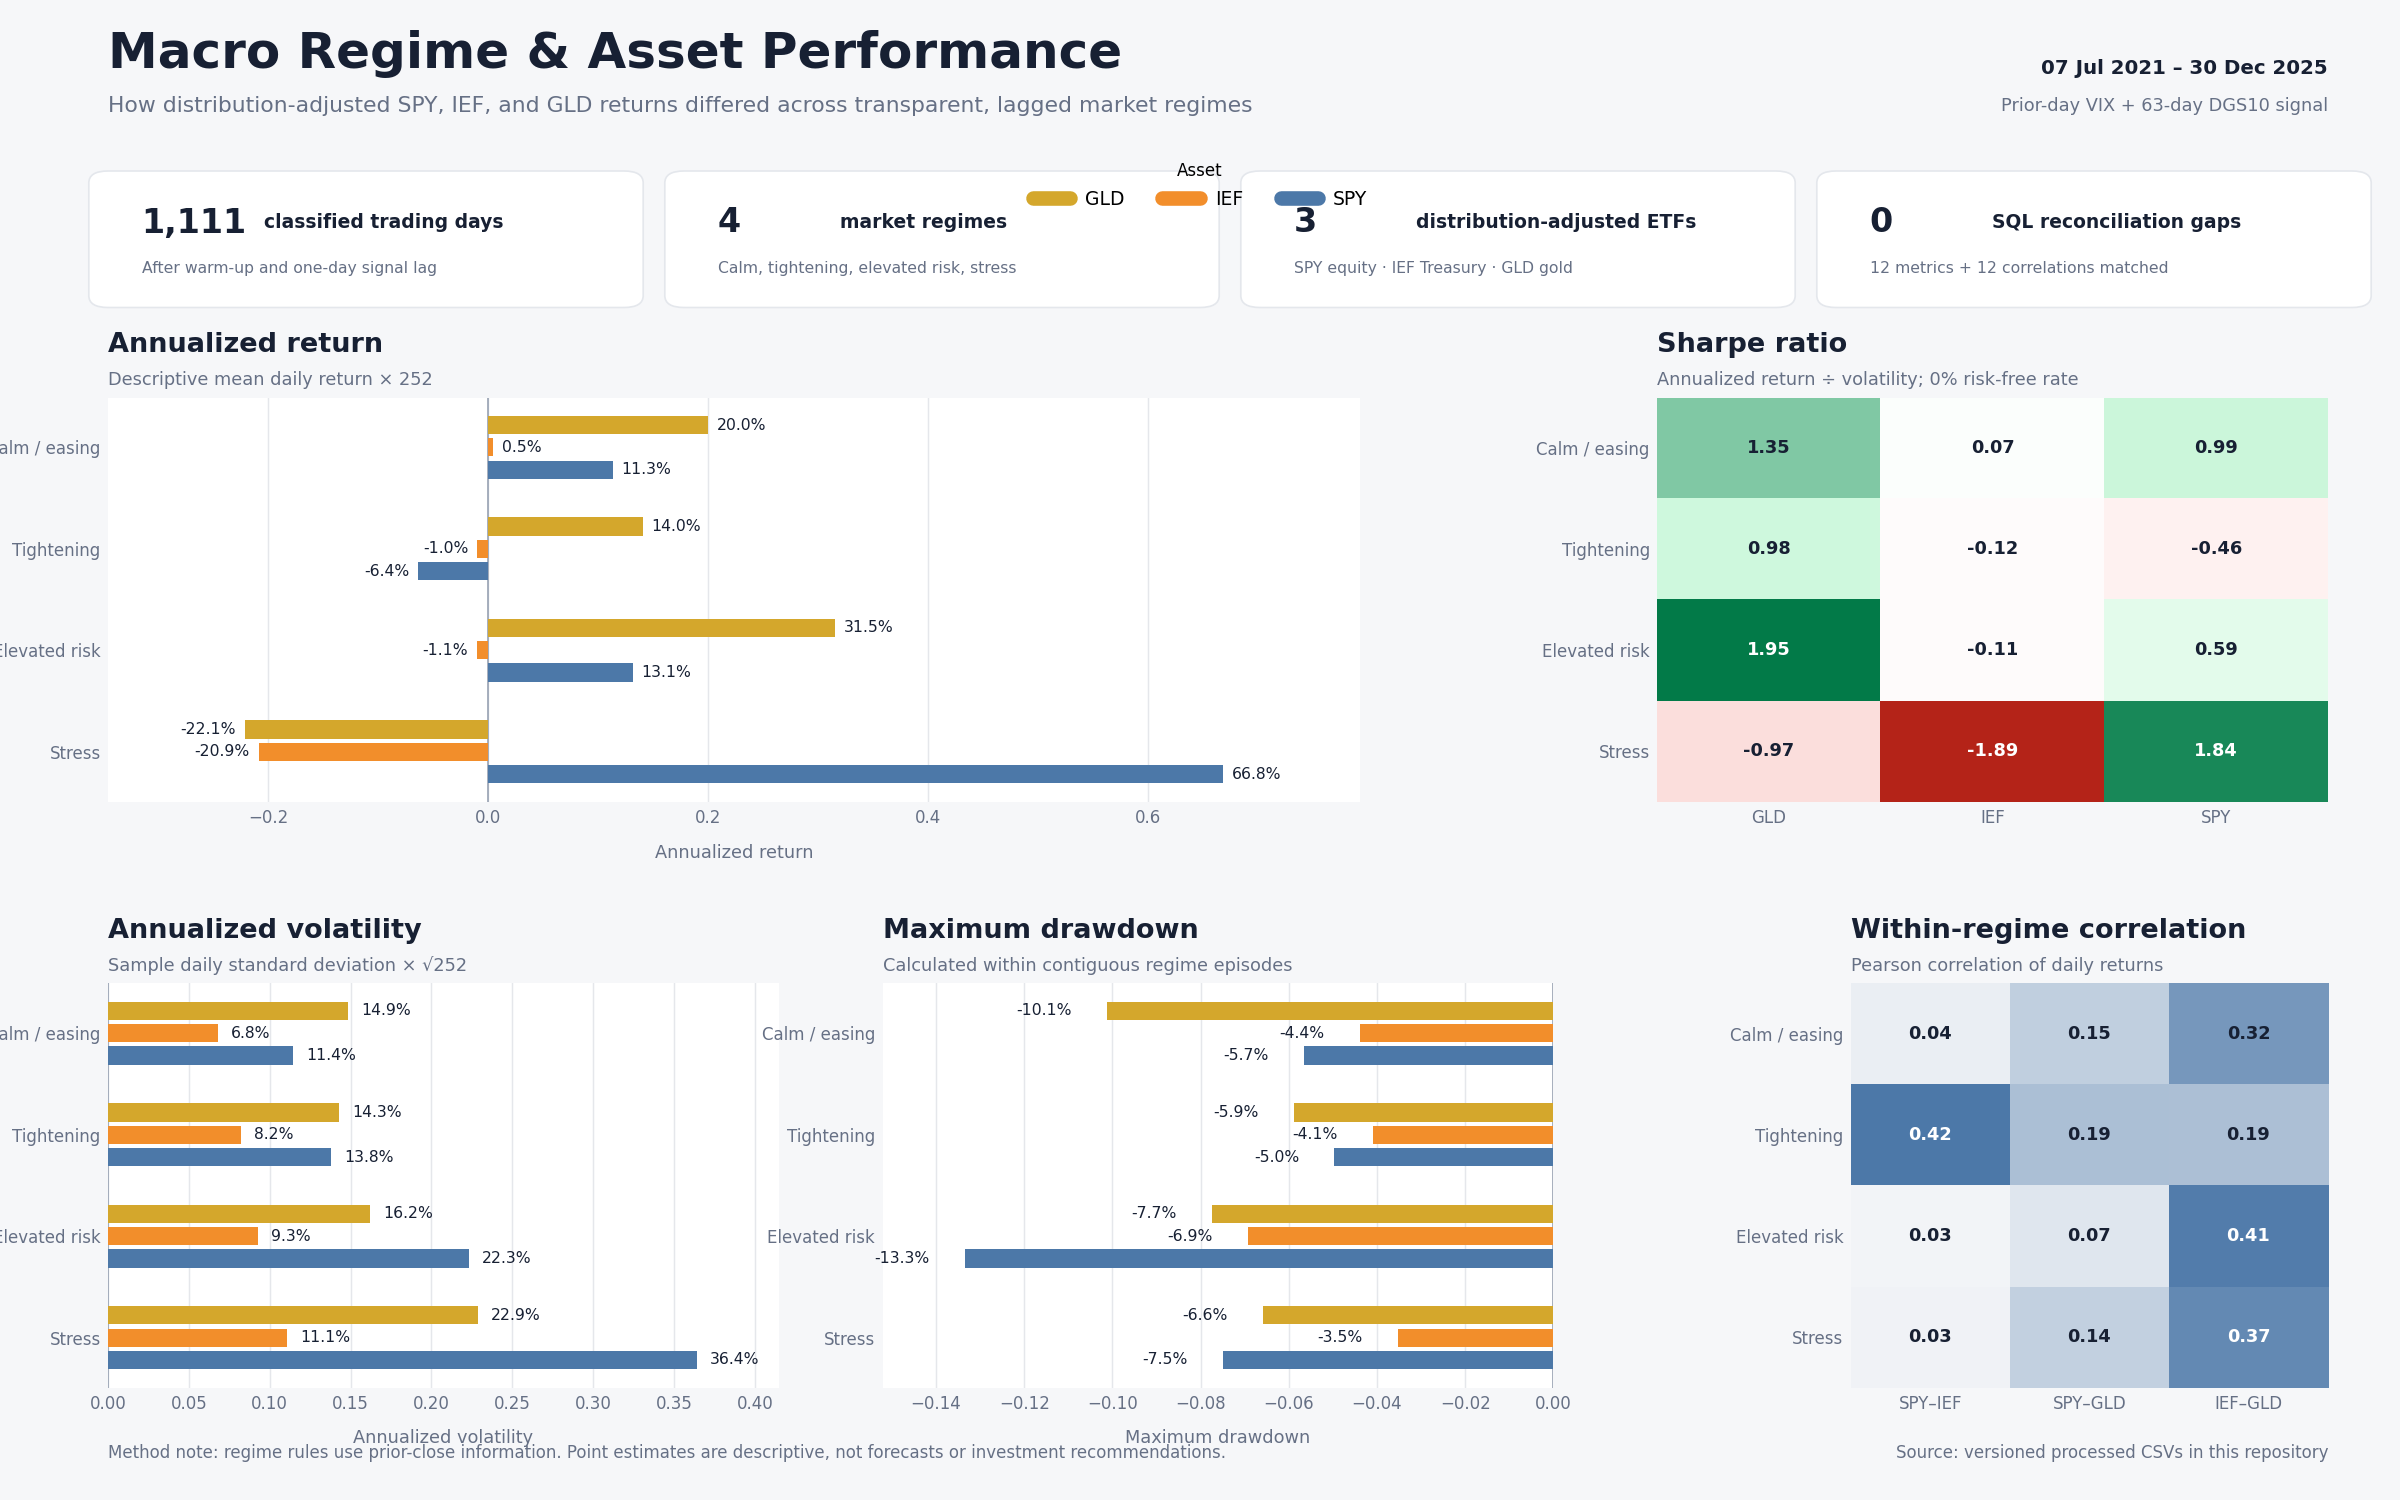

The dashboard page shown, as its layout file describes it:
{"tool":"tableau","page":{"name":"Regime Performance Dashboard","canvas":[1400,900],"ordinal":1},"visuals":[{"type":"text","box":[8,8,1384,45]},{"type":"text","box":[8,53,1384,26]},{"type":"worksheet","title":"Asset Performance by Regime","mark":"Bar","rows":["avg_return"],"cols":["macro_regime_label","ticker"],"box":[8,79,490,473]},{"type":"worksheet","title":"Risk vs Return","mark":"Automatic","rows":["avg_return"],"cols":["volatility"],"box":[498,79,894,473]},{"type":"worksheet","title":"Worst Case by Regime","mark":"Bar","rows":["worst_return"],"cols":["macro_regime_label","ticker"],"box":[8,552,1239,340]},{"type":"legend","title":"Asset Performance by Regime","param":"[federated.0quq1d31iqd37f16axsjq044dgca].[none:ticker:nk]","box":[1247,552,145,156]},{"type":"text","box":[1247,708,145,184]}]}

Visuals, with their boxes in screenshot pixels (x1, y1, x2, y2), scaled from the page's 1400x900 canvas onto the 2400x1500 screenshot:
text: detection(14, 13, 2386, 88)
text: detection(14, 88, 2386, 132)
"Asset Performance by Regime" worksheet (Bar marks): detection(14, 132, 854, 920)
"Risk vs Return" worksheet: detection(854, 132, 2386, 920)
"Worst Case by Regime" worksheet (Bar marks): detection(14, 920, 2138, 1487)
"Asset Performance by Regime" legend: detection(2138, 920, 2386, 1180)
text: detection(2138, 1180, 2386, 1487)
